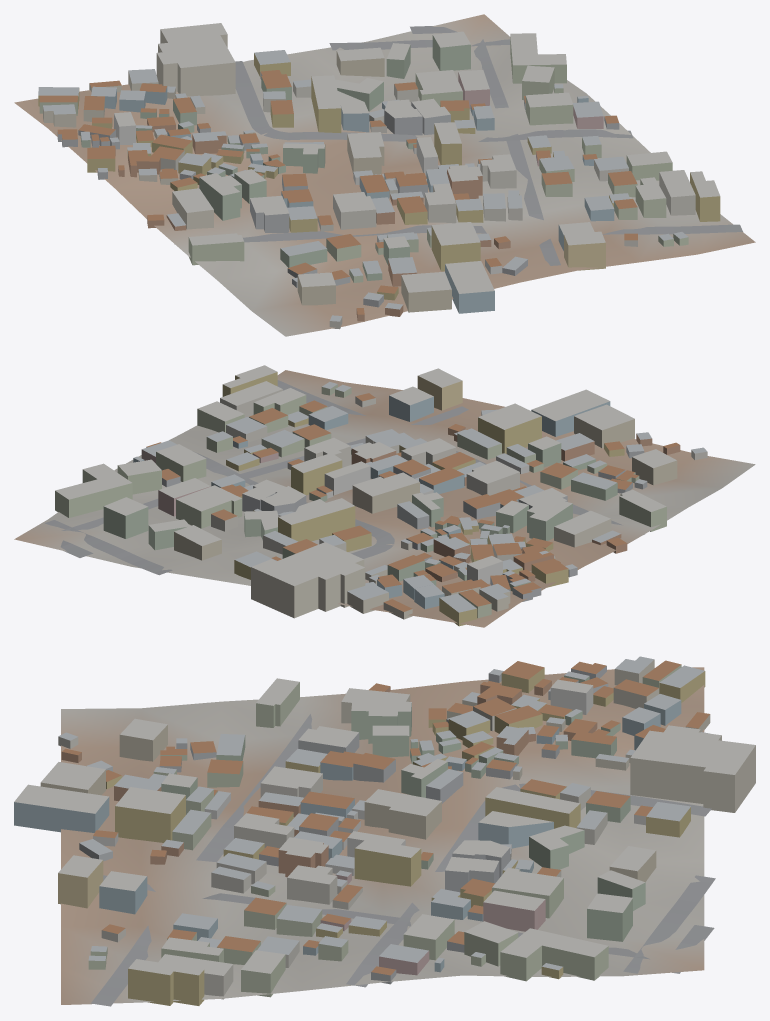
3 renders of one model, top to bottom at view 1: azimuth 30°, elevation 25°; view 2: azimuth 150°, elevation 25°; view 3: azimuth 270°, elevation 25°, orthographic. The views are drawn at different scales.
Visible parts, largest first — view 1: Lo; view 2: Lo; view 3: Lo.
Boxes of the visible parts, <box> form: Lo: <box>14,14,755,336</box>; Lo: <box>14,365,755,627</box>; Lo: <box>14,656,755,1006</box>.
Bounding box in the file's own units: 262 × 37.54 × 295.
